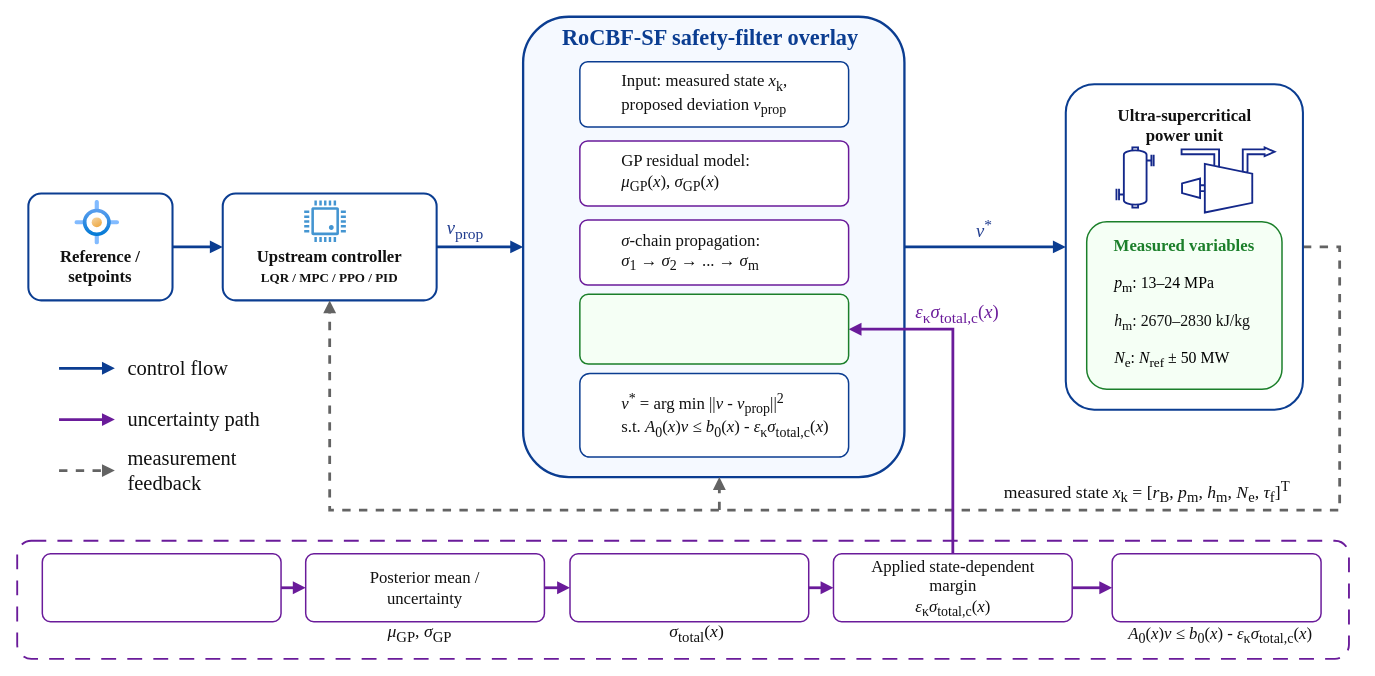
The diagram is 1375 pixels wide and 676 high, and some of its shapes have lost their labels. Here are the shapes that lost their labels. From the top down, the centre of each, then its label:
At (714,328): "Scaled per-constraint margins: ε κ σ total,c ( x ), c in { p m , h m , N e }".
At (161,587): "Commissioning-calibrated frozen GP residual model".
At (689,587): "Compositional uncertainty propagation through HOCBF ψ-chain".
At (1216,587): "QP-admissible projection under selected margin".
